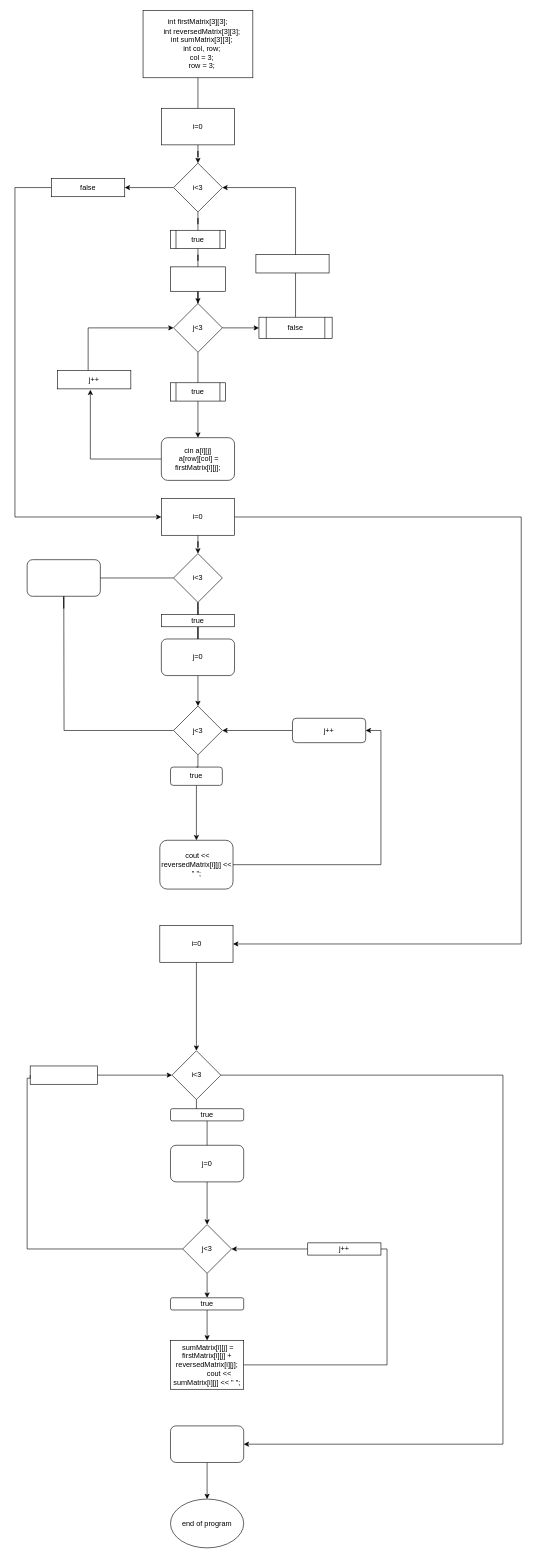
Image size: 537x1559. Some labels were removed from this diagram. Each missing label, with the centre of its shape:
"cout << endl; i++" goes at [63,1074].
"cout <<endl i++" goes at [63,577].
"i++" goes at [292,263].
"return 0" goes at [207,1443].
"row--; col = 3; j=0" goes at [197,278].
